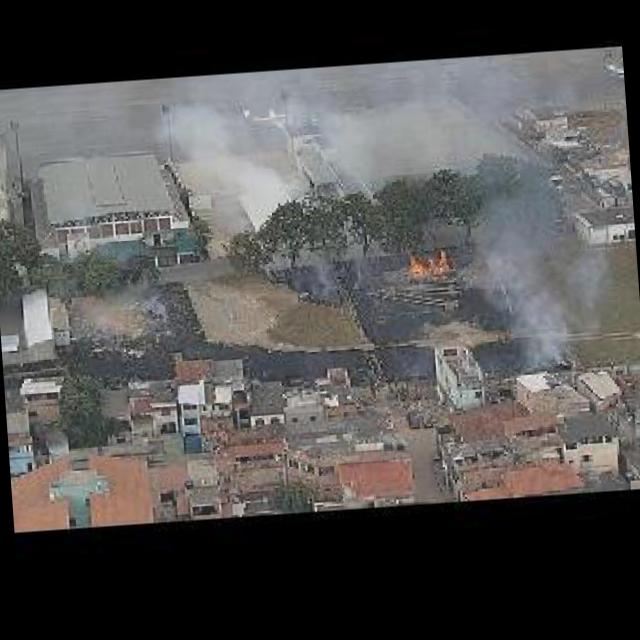fire: (398, 240, 456, 276)
smoke: (457, 189, 613, 374)
